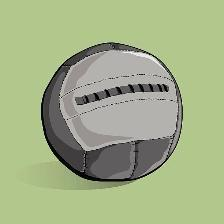Sports-Ball: (41, 45, 183, 183)
